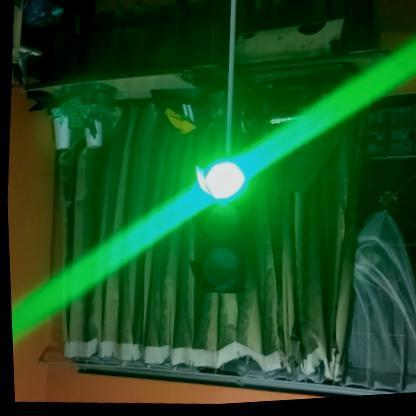green: (184, 156, 252, 299)
